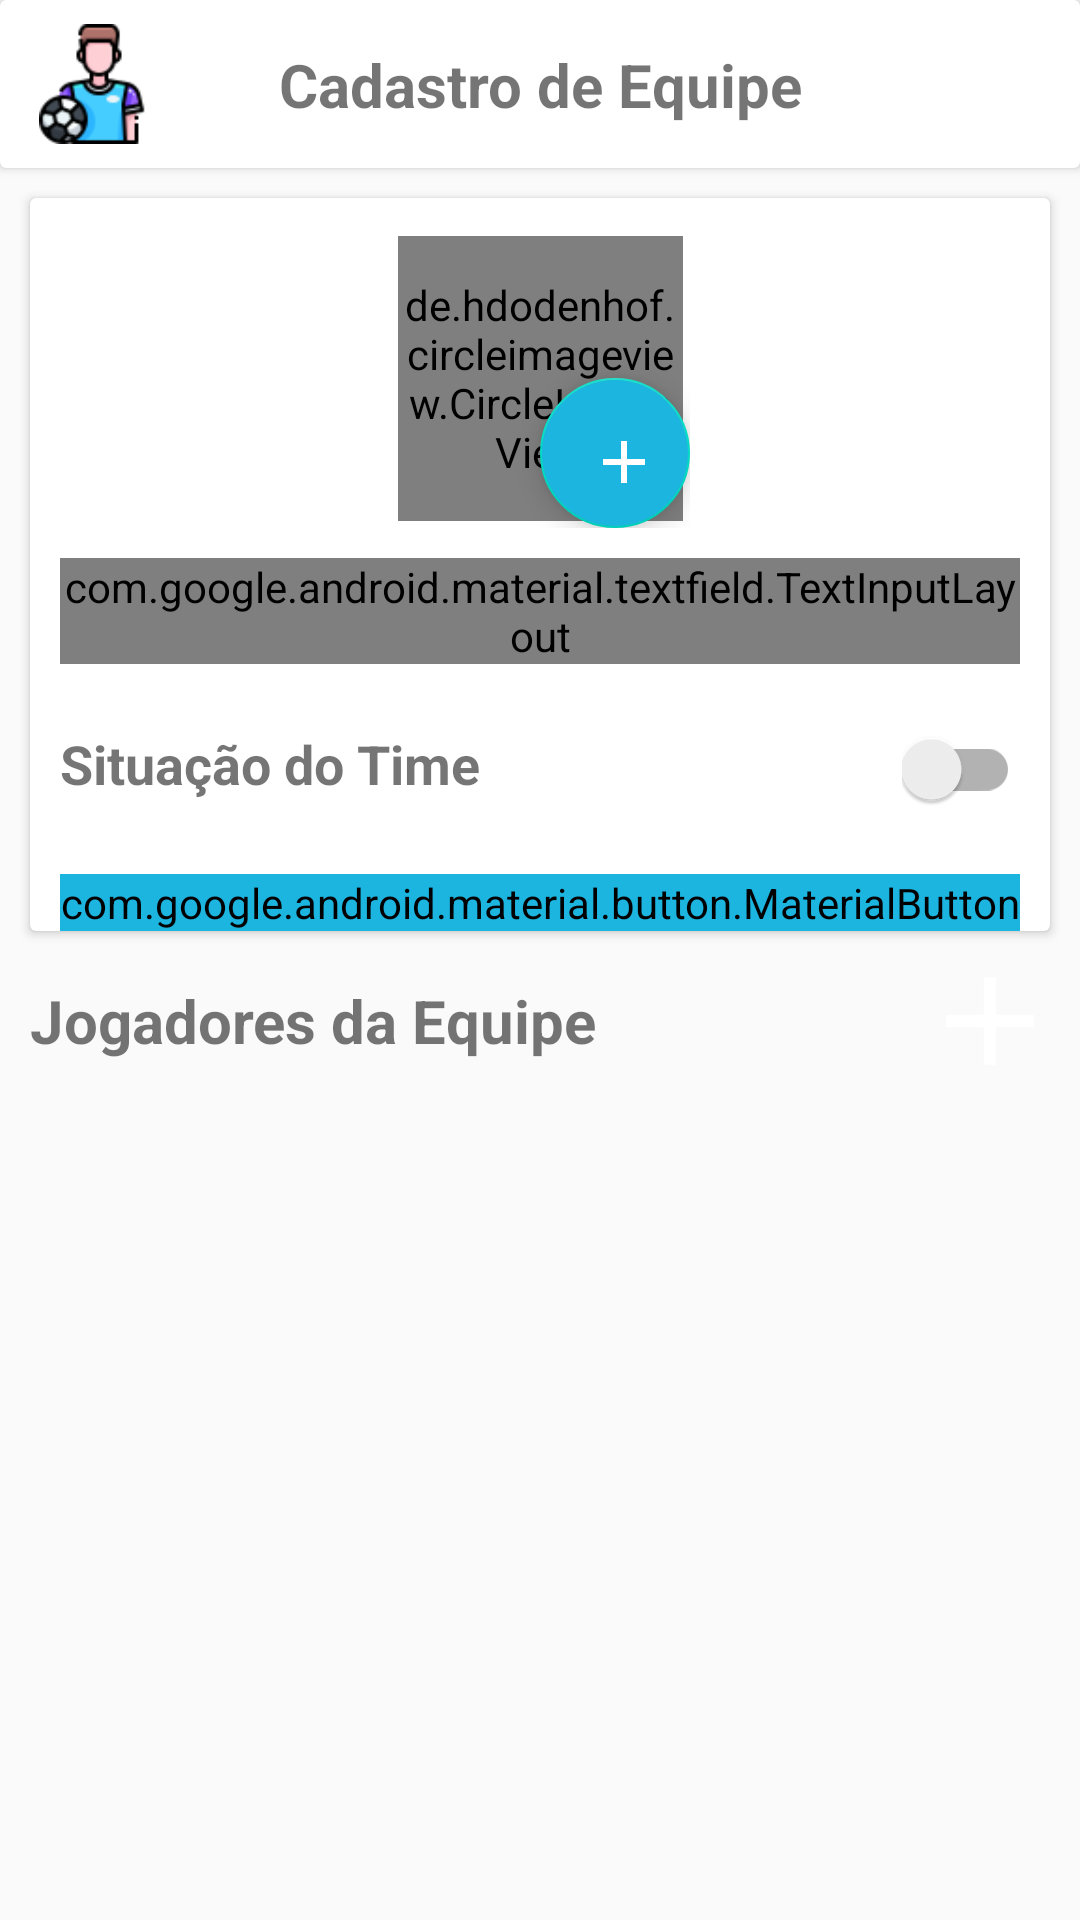

Screen size 1080px x 1920px. Icon name, then its center in pixels as (x,y):
add: (615,453)
player: (92,84)
